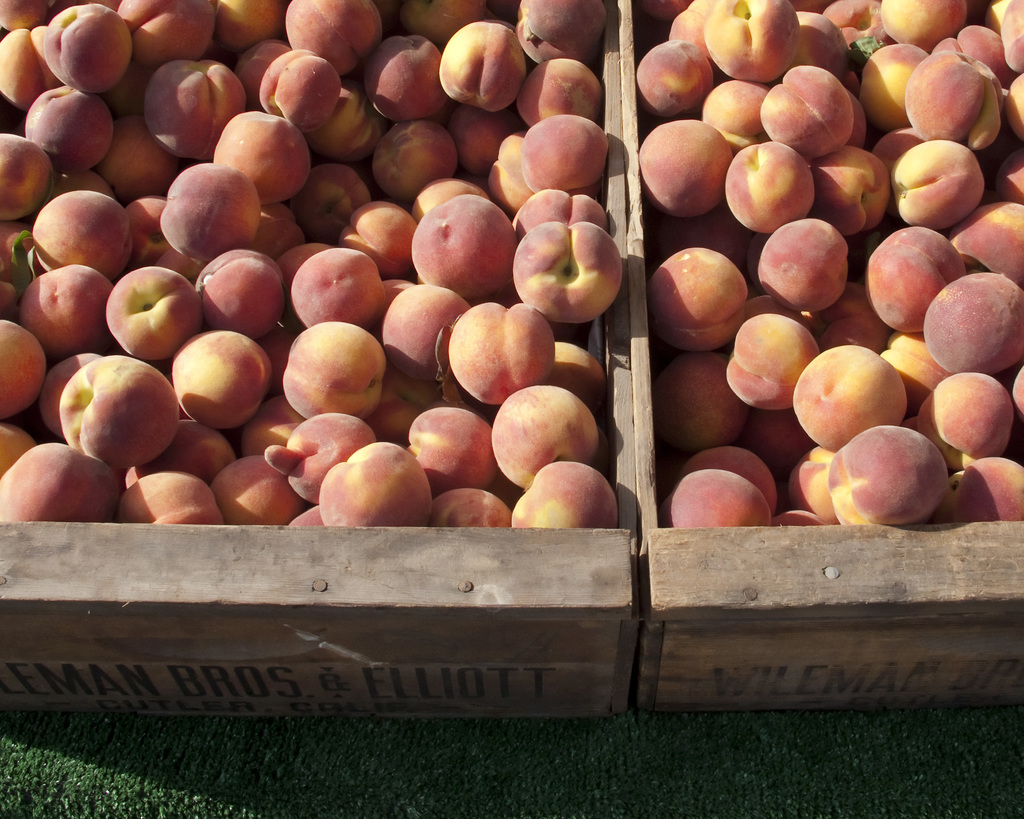Apple: (0, 0, 629, 527), (632, 0, 1023, 524), (161, 312, 262, 419)
